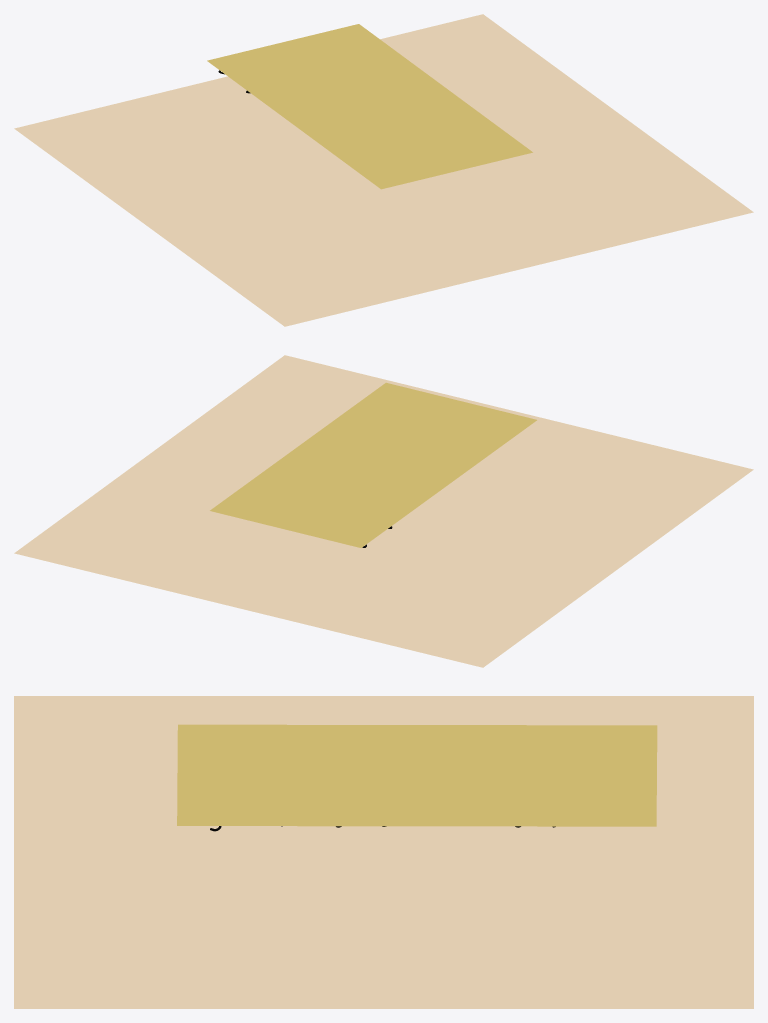
File: paper.gltf
3 renders of one model, top to bottom at view 1: azimuth 30°, elevation 25°; view 2: azimuth 150°, elevation 25°; view 3: azimuth 270°, elevation 25°, orthographic. The views are drawn at different scales.
Visible parts, largest first — view 1: Plane001, Plane; view 2: Plane001, Plane; view 3: Plane001, Plane.
Part boxes in pixels (box(x1,y1,x2,y2)): Plane001: box(14, 14, 753, 326); Plane: box(207, 24, 532, 189); Plane001: box(14, 355, 753, 667); Plane: box(210, 382, 536, 547); Plane001: box(14, 696, 753, 1008); Plane: box(177, 724, 657, 826).
Bounding box in the file's own units: 6.17 × 0.6964 × 6.17.
